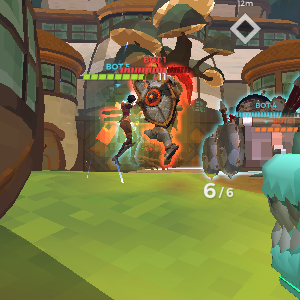model: (132, 61, 189, 166)
